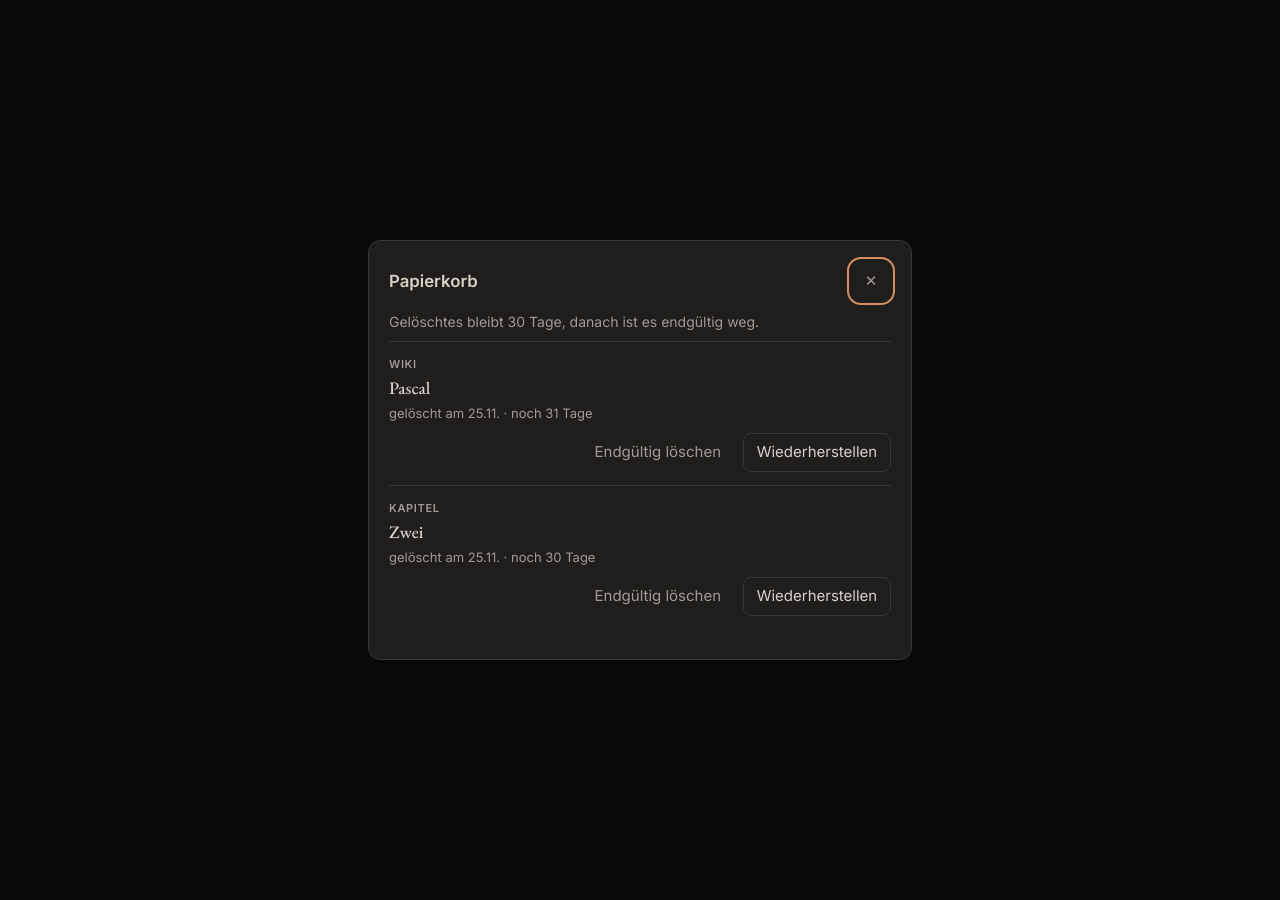
Test case: deleting for good asks first
The width and height of the screenshot is (1280, 900).
Expected: the text "Zwei" is shown, [389,520,423,543]
Click the button with aria-label "„Zwei“ endgültig löschen".
click(658, 596)  # box [581,577,735,616]
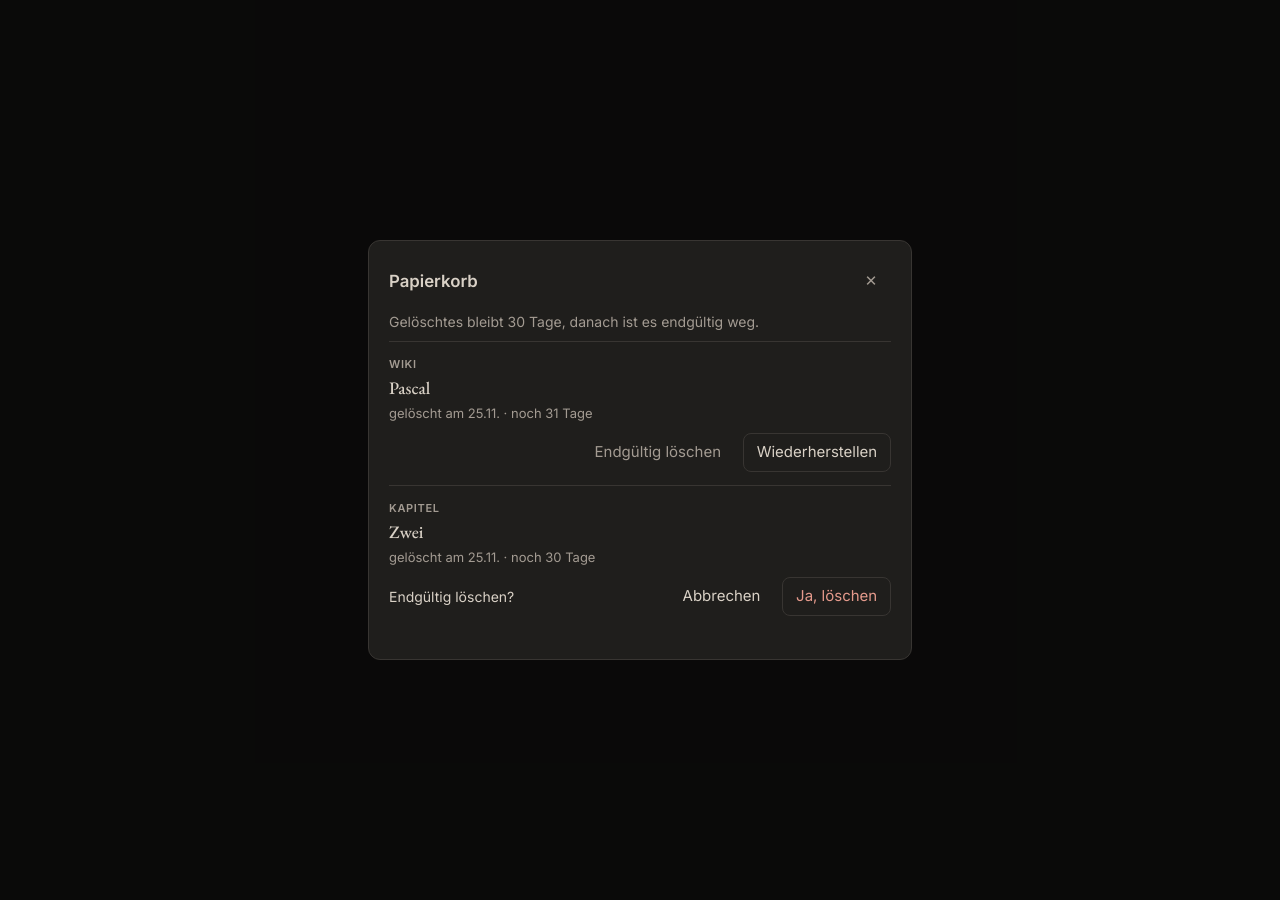
Expected: the text "Endgültig löschen?" is shown, [389,586,514,607]
Click the button "Abbrechen".
click(722, 596)  # box [669,577,774,616]
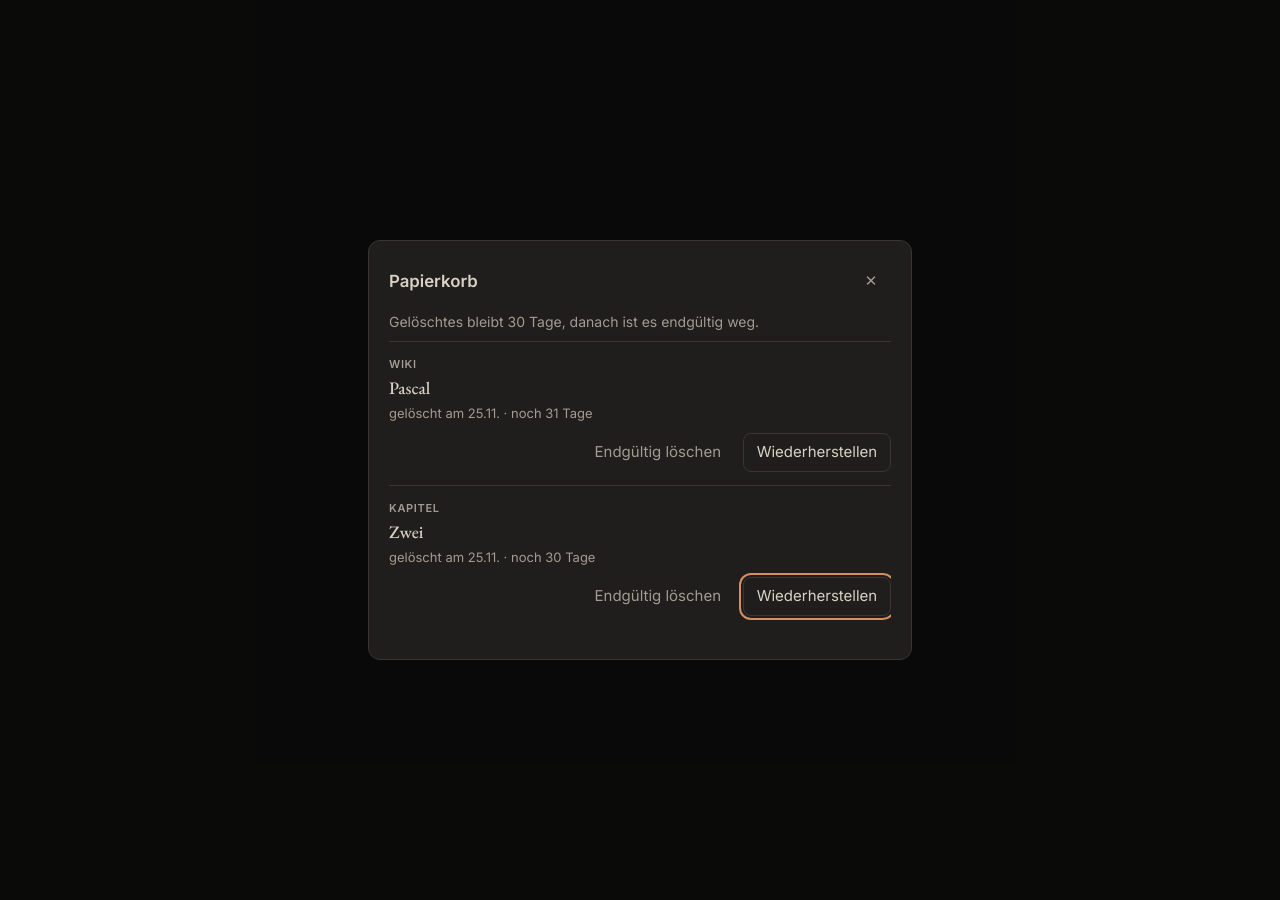
Click the button with aria-label "„Zwei“ endgültig löschen".
click(658, 596)  # box [581,577,735,616]
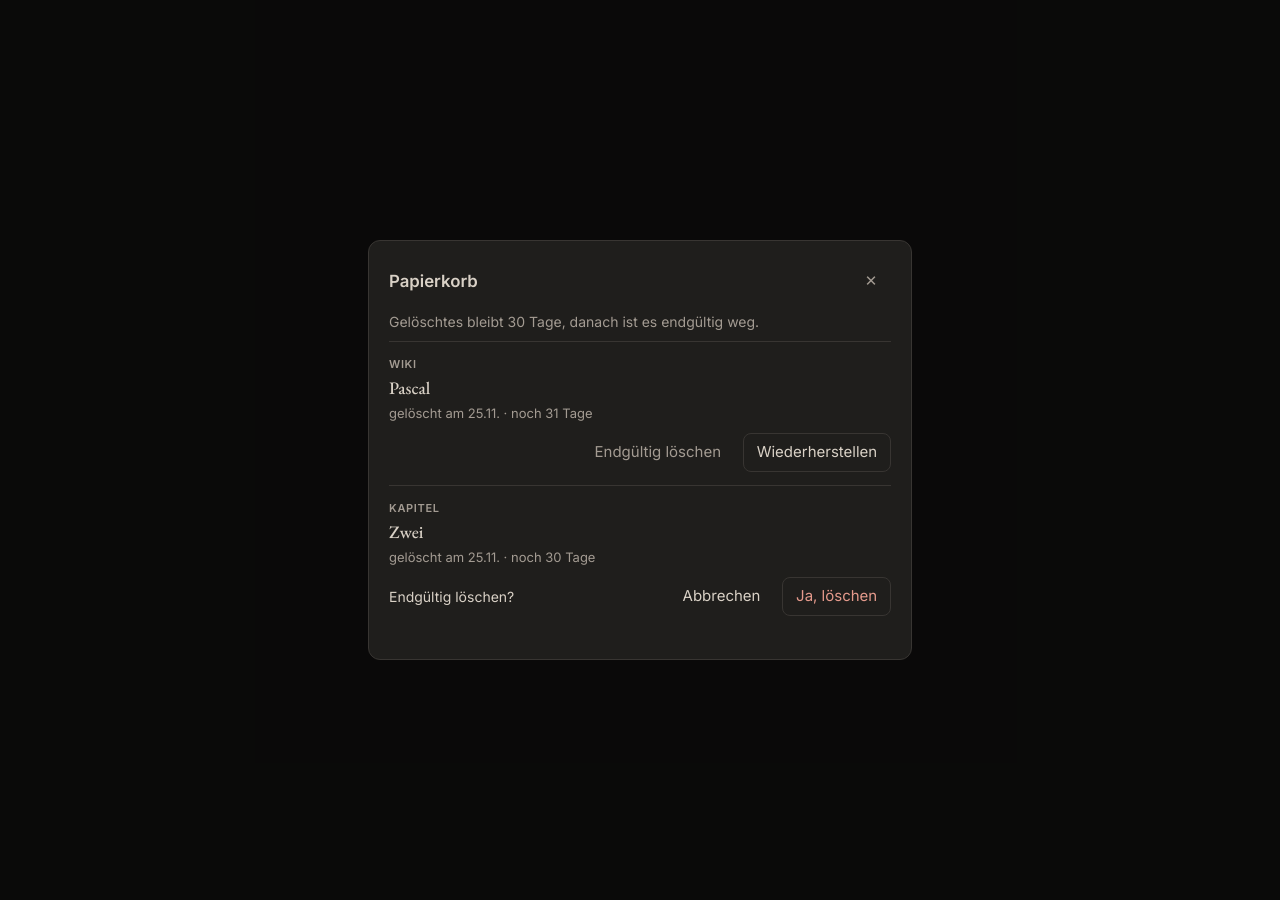
Click the button "Ja, löschen".
click(837, 596)  # box [782,577,891,616]
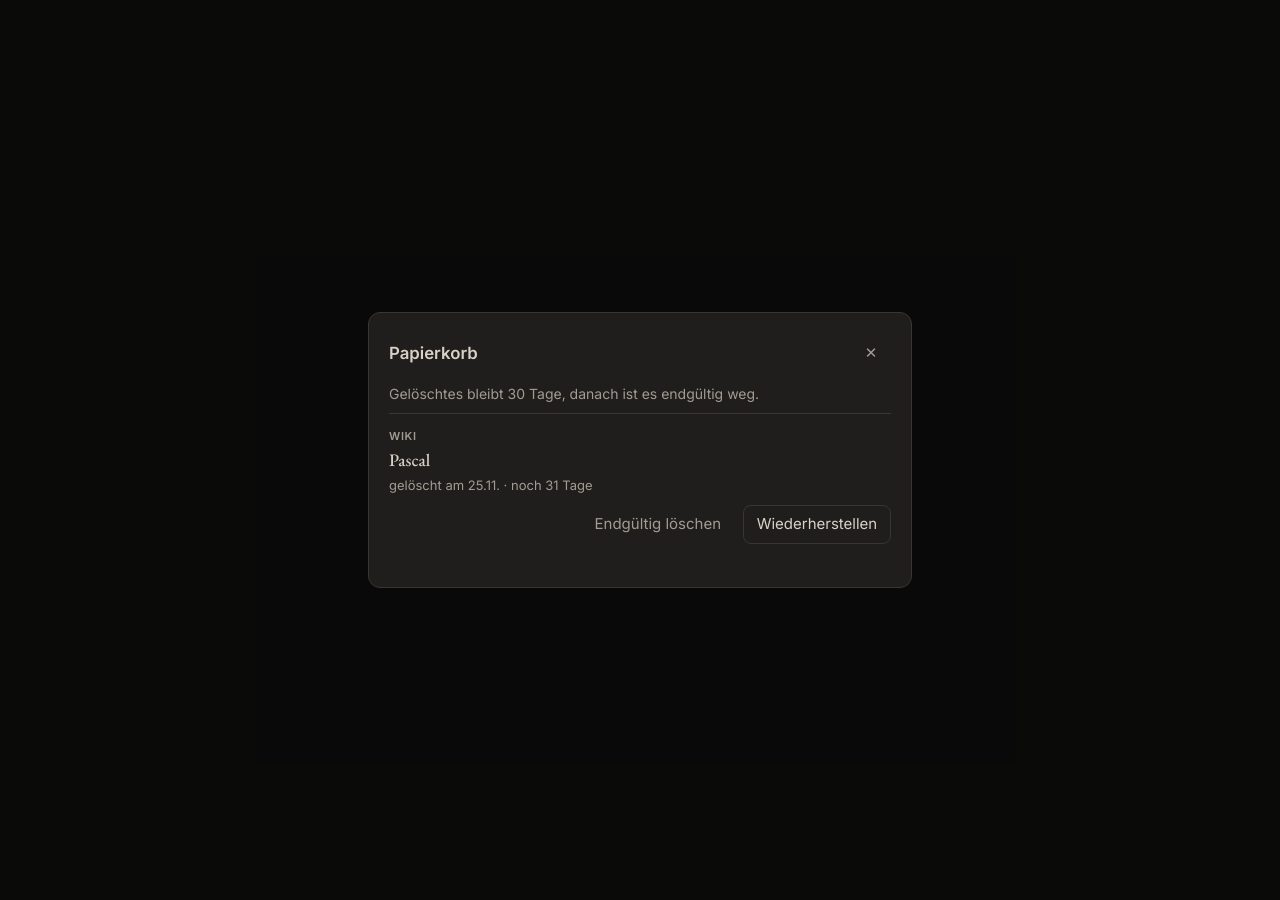
Expected: the text "Zwei" is gone
